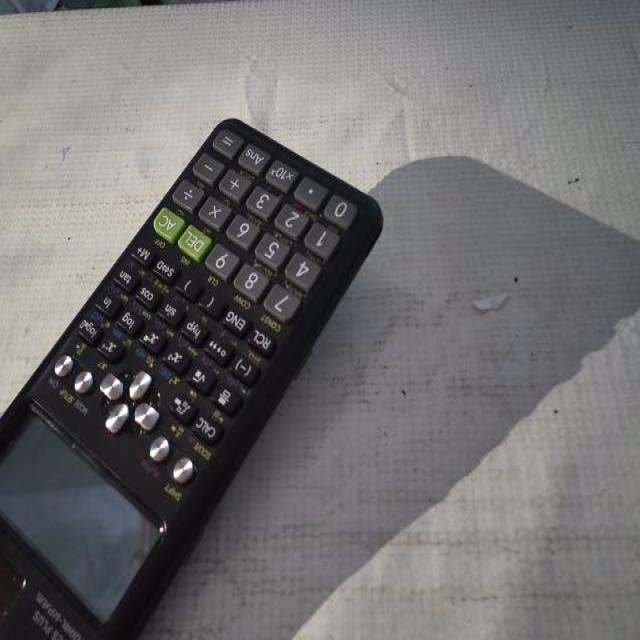Calculator: (0, 113, 386, 639)
